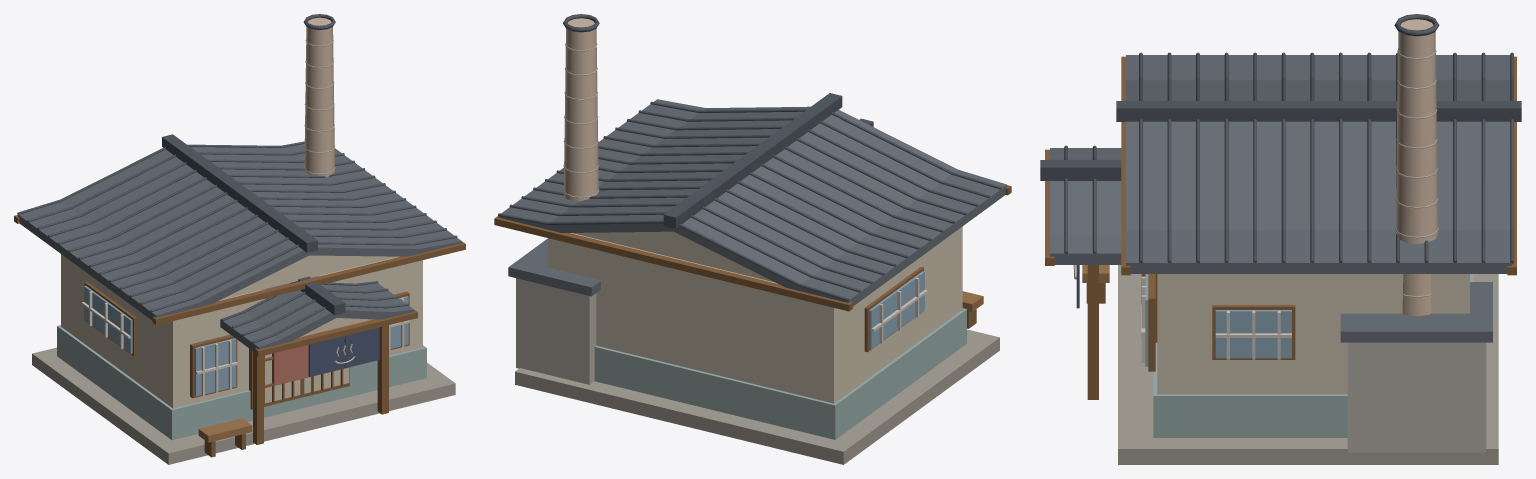
File: komachi-bathhouse.glb
3 renders of one model, left to right at view 1: azimuth 30°, elevation 25°; view 2: azimuth 150°, elevation 25°; view 3: azimuth 270°, elevation 25°, orthographic. The views are drawn at different scales.
Parts seen in each view (by area): view 1: Bathhouse_Building, Bathhouse_Curtain_And_Chimney; view 2: Bathhouse_Building, Bathhouse_Curtain_And_Chimney; view 3: Bathhouse_Building, Bathhouse_Curtain_And_Chimney.
Boxes of the visible parts, <box> form: Bathhouse_Building: <box>14,134,465,464</box>; Bathhouse_Curtain_And_Chimney: <box>198,14,379,457</box>; Bathhouse_Building: <box>494,93,1011,464</box>; Bathhouse_Curtain_And_Chimney: <box>508,14,983,384</box>; Bathhouse_Building: <box>1040,52,1521,464</box>; Bathhouse_Curtain_And_Chimney: <box>1073,14,1492,452</box>.
Size of the model in its own units: 1.84 by 1.71 by 1.77.
